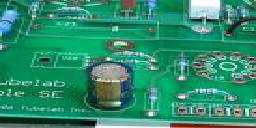Electrolytic Capacitor: (83, 57, 139, 120)
